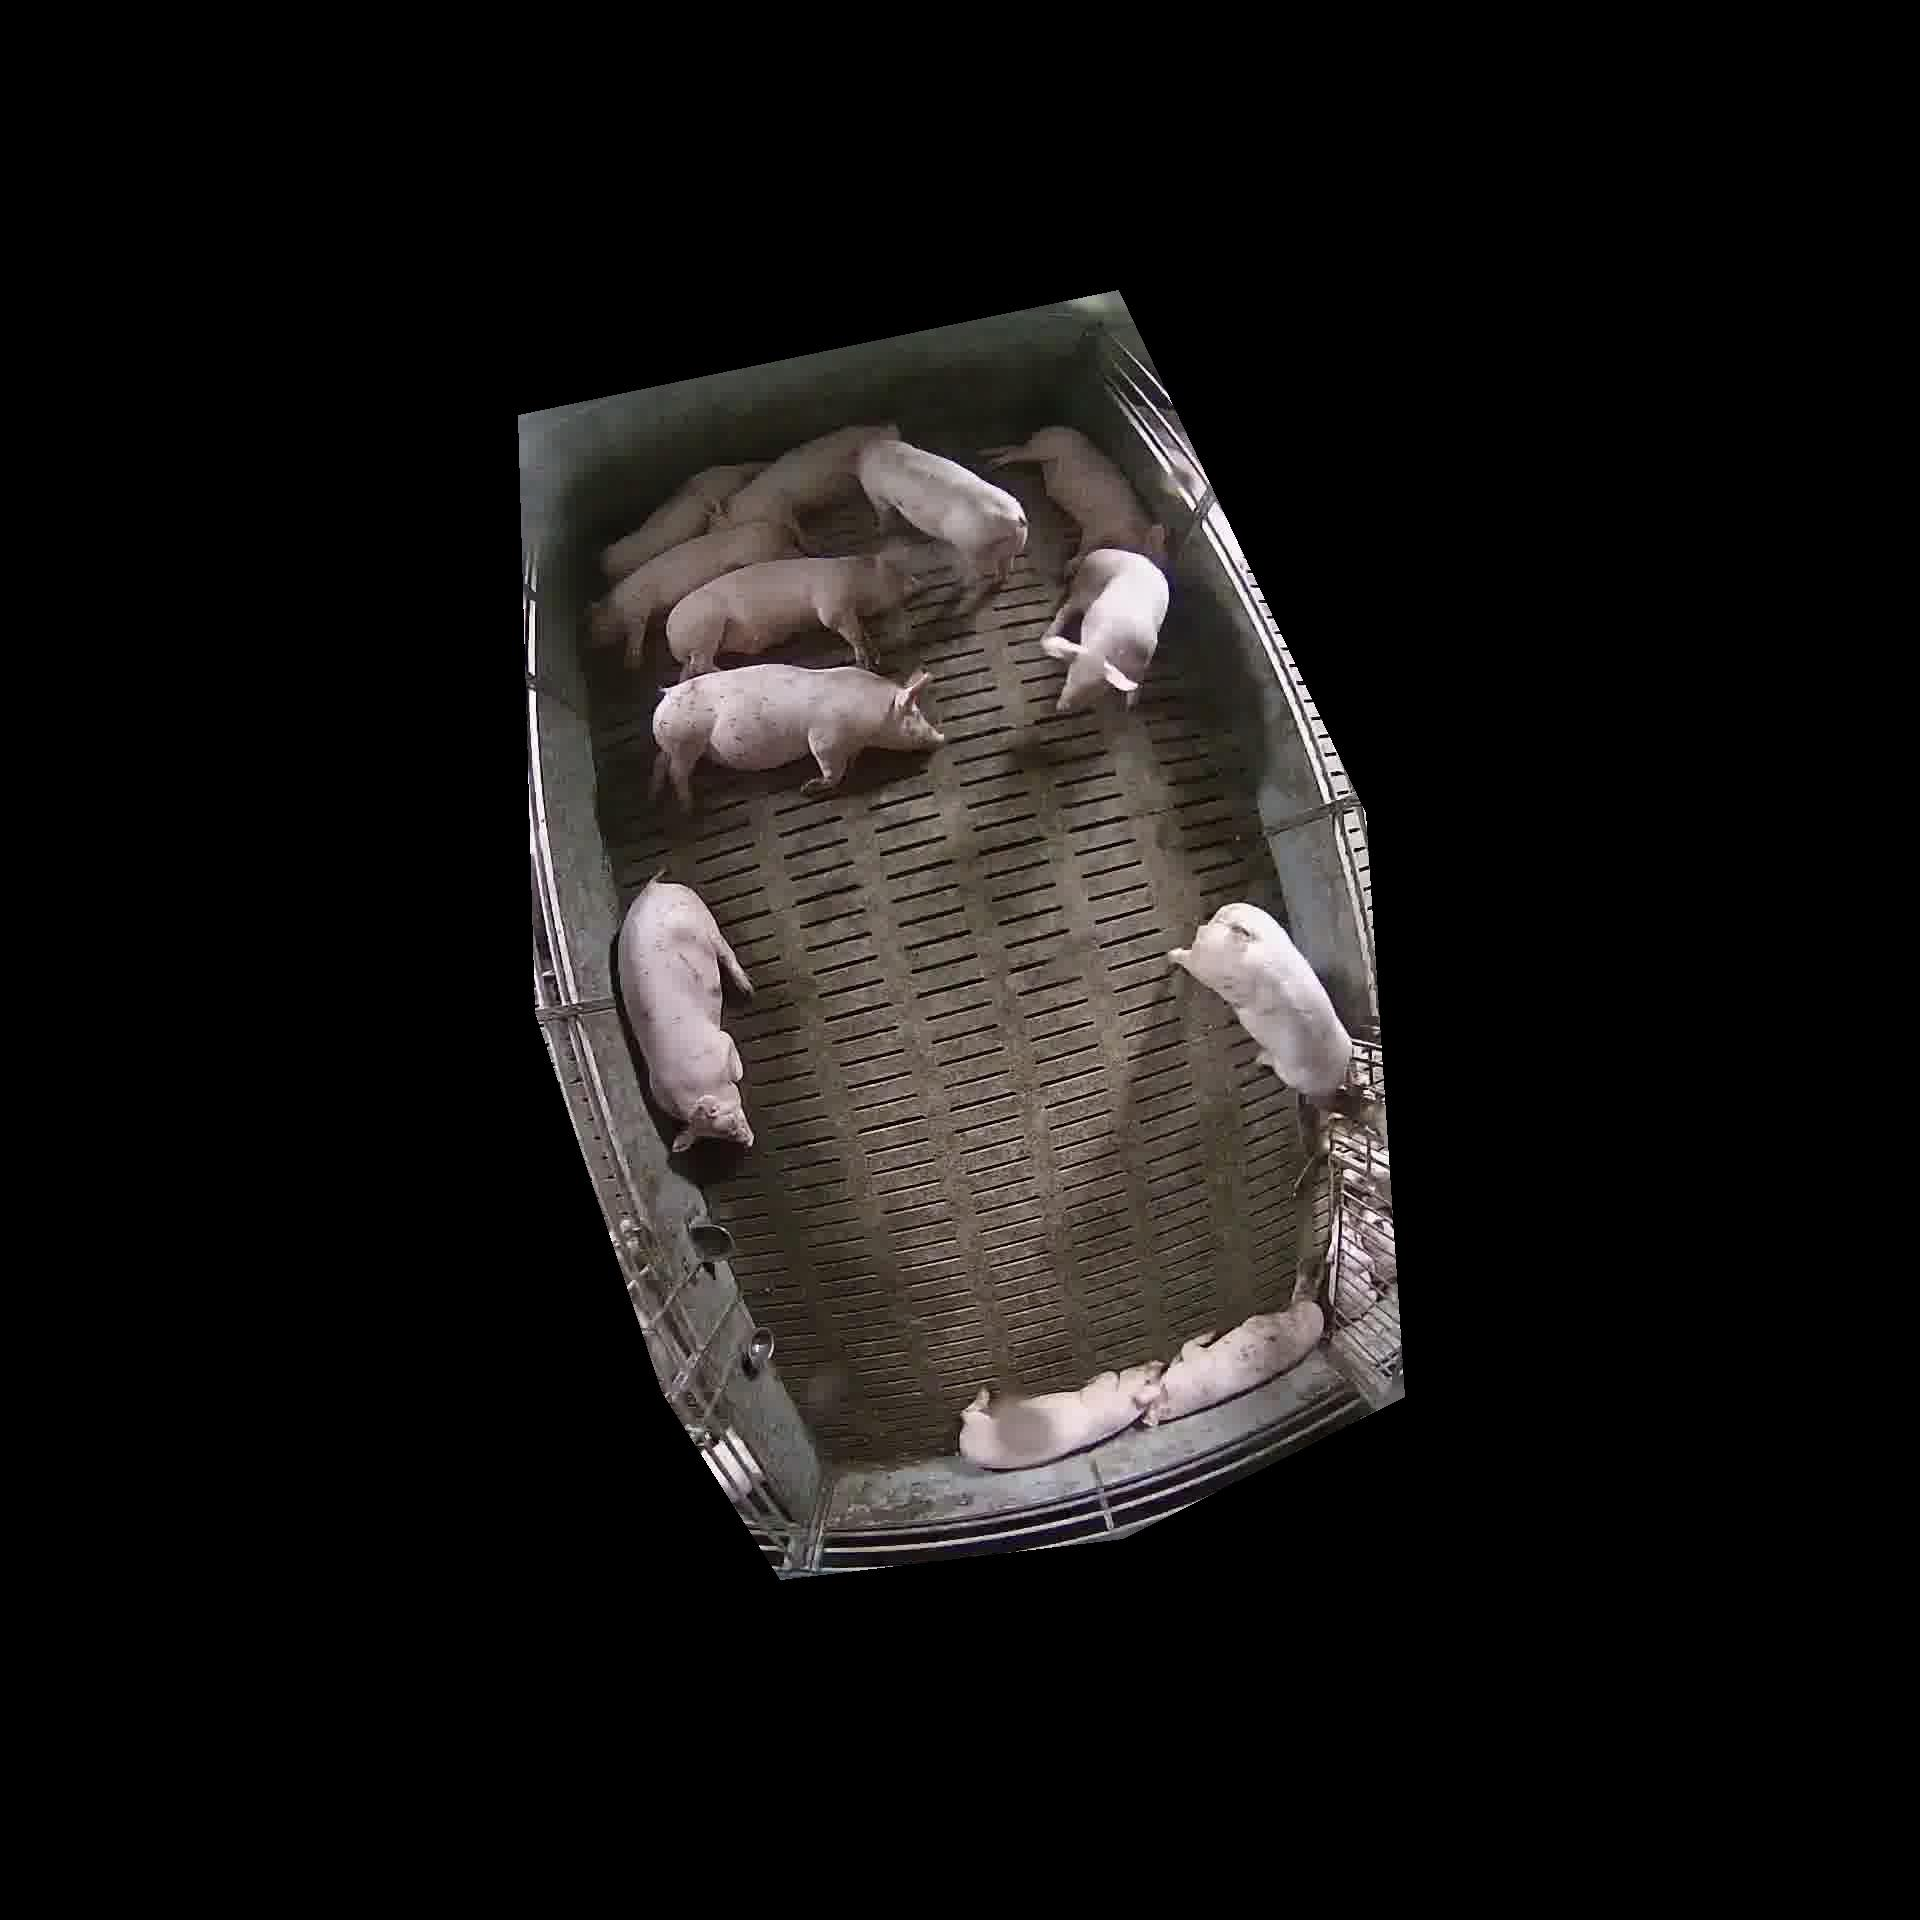pig: (652, 665, 942, 809), (617, 879, 753, 1152), (1169, 904, 1350, 1102), (587, 520, 798, 666), (666, 556, 914, 679), (856, 438, 1027, 610), (983, 425, 1166, 566), (1145, 1299, 1324, 1424), (958, 1363, 1162, 1468), (1041, 549, 1167, 710), (600, 462, 763, 580), (721, 425, 891, 529)
